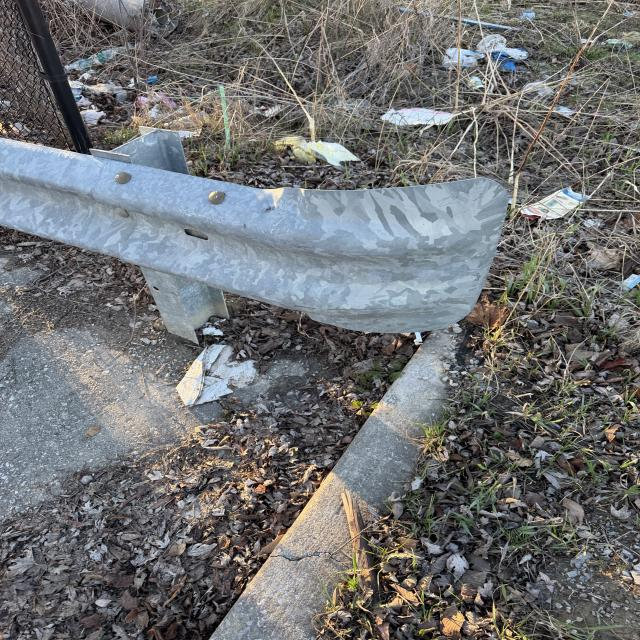Guard rail: (0, 137, 482, 319)
